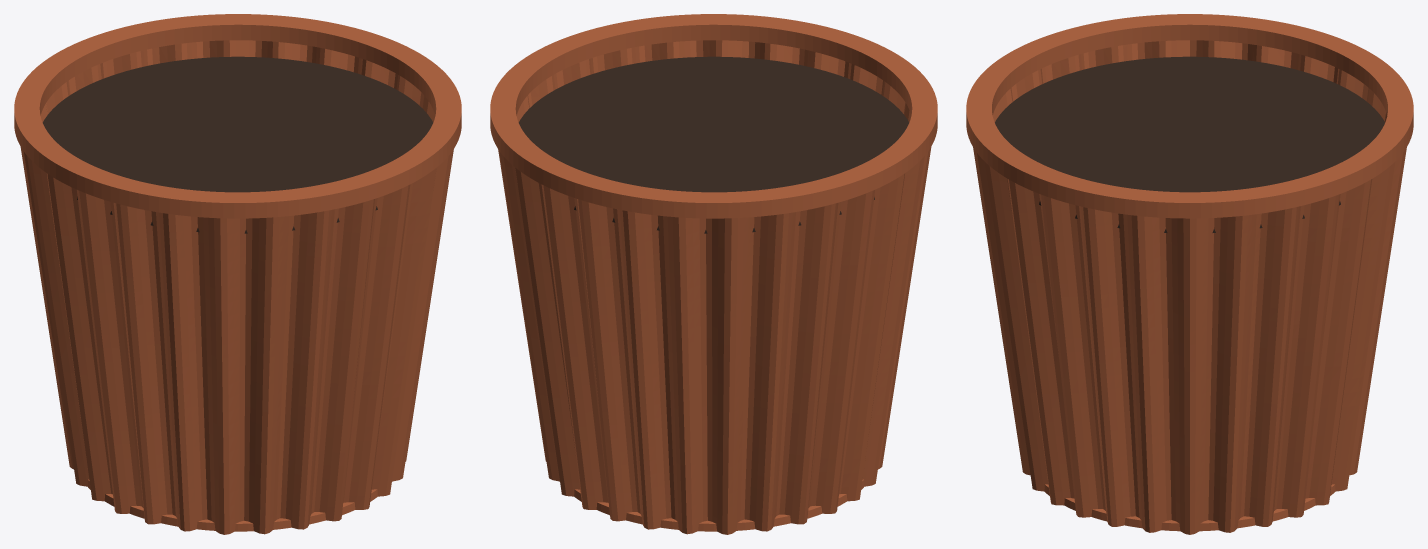
File: terrakottakruka-rafflad.glb
The picture shows the model from 3 angles, left to right: view 1: azimuth 30°, elevation 25°; view 2: azimuth 150°, elevation 25°; view 3: azimuth 270°, elevation 25°; orthographic projection.
Visible parts, largest first — view 1: terrakottakruka-rafflad-0, terrakottakruka-rafflad-2, terrakottakruka-rafflad-1; view 2: terrakottakruka-rafflad-0, terrakottakruka-rafflad-2, terrakottakruka-rafflad-1; view 3: terrakottakruka-rafflad-0, terrakottakruka-rafflad-2, terrakottakruka-rafflad-1.
Boxes of the visible parts, box(x1,y1,x2,y2) form: terrakottakruka-rafflad-0: box(20, 40, 453, 534); terrakottakruka-rafflad-2: box(42, 56, 433, 233); terrakottakruka-rafflad-1: box(14, 14, 461, 218); terrakottakruka-rafflad-0: box(498, 40, 931, 534); terrakottakruka-rafflad-2: box(518, 56, 909, 233); terrakottakruka-rafflad-1: box(490, 14, 937, 218); terrakottakruka-rafflad-0: box(973, 40, 1406, 534); terrakottakruka-rafflad-2: box(995, 56, 1384, 232); terrakottakruka-rafflad-1: box(966, 14, 1413, 218).
Bounding box in the file's own units: 0.21 × 0.184 × 0.21.
